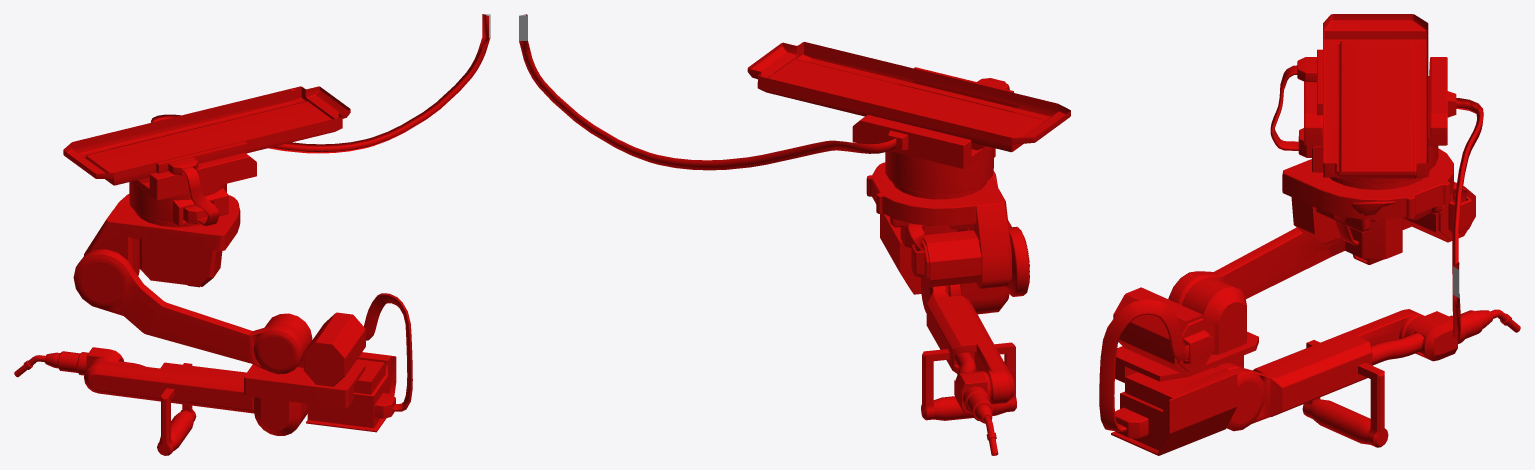
File: CeilingMountedArm3.fbx
3 views of the same model, side by side, from view 1: azimuth 30°, elevation 25°; view 2: azimuth 150°, elevation 25°; view 3: azimuth 270°, elevation 25° (orthographic). The views are drawn at different scales.
Parts seen in each view (by area): view 1: SM_WorkShop; view 2: SM_WorkShop; view 3: SM_WorkShop.
Part boxes in pixels (x1=…): SM_WorkShop: x1=14, y1=14, x2=490, y2=455; SM_WorkShop: x1=519, y1=14, x2=1070, y2=455; SM_WorkShop: x1=1099, y1=14, x2=1520, y2=455.
Size of the model in its own units: 227 by 148 by 146.
